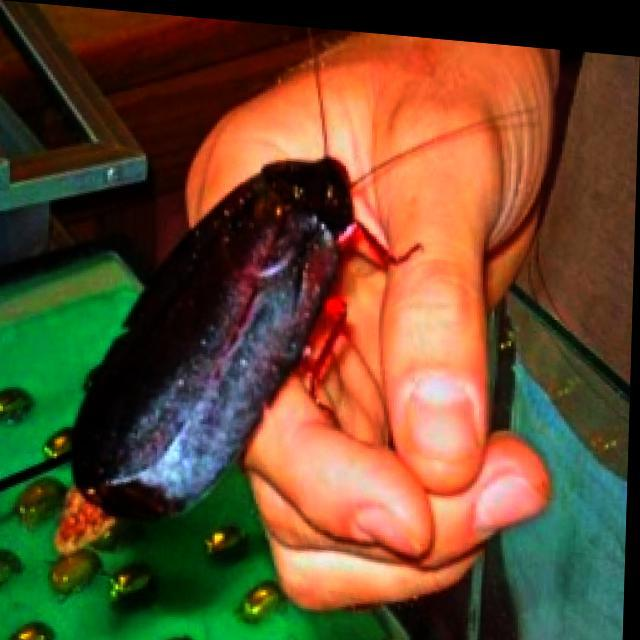cockroach: (47, 93, 380, 557)
